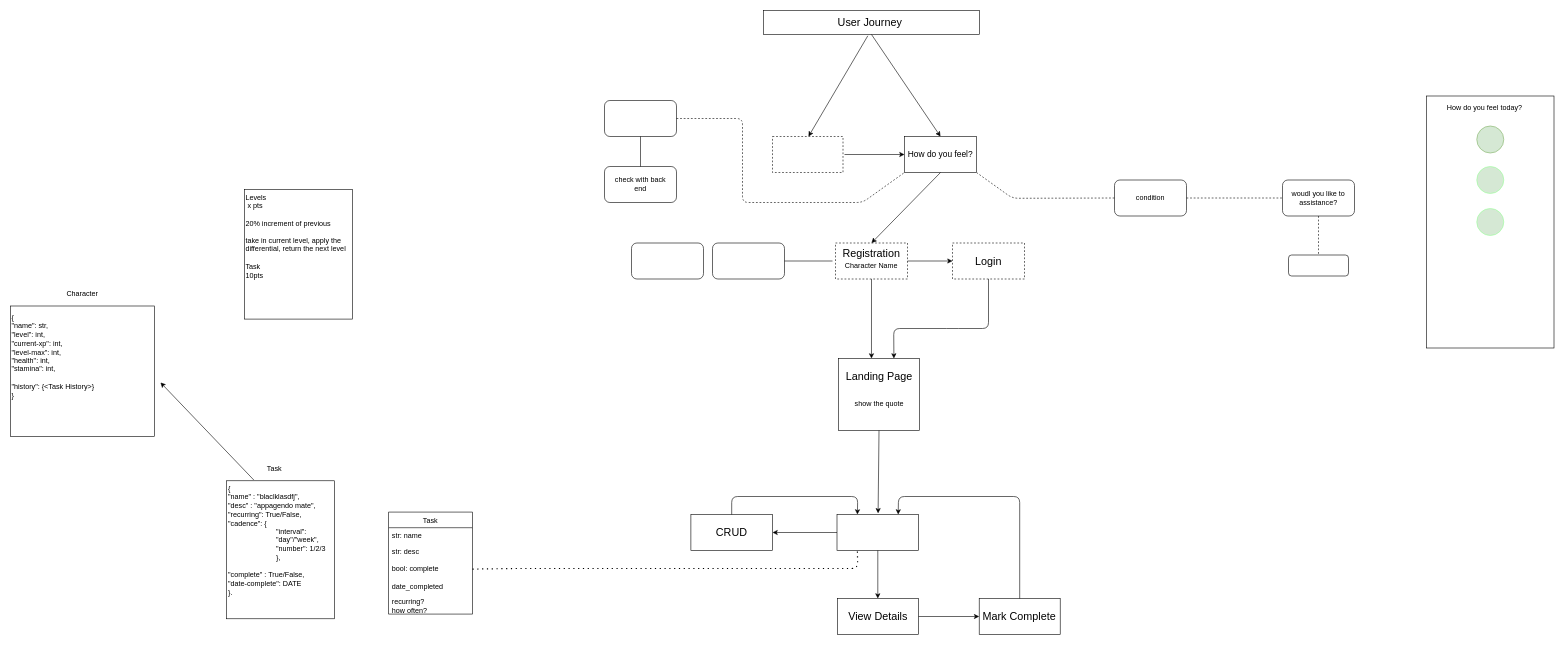
This 1565x645 diagram has some shape labels left out. Each missing label, with the centre of its shape:
"conditional, if first login:" belongs at (640,118).
"Get Help" belongs at (1318,265).
"Intro to app" belongs at (807,154).
"Send To DB" belongs at (748,260).
"Tasks" belongs at (877,532).
"user name saved character gets made" belongs at (667,260).
